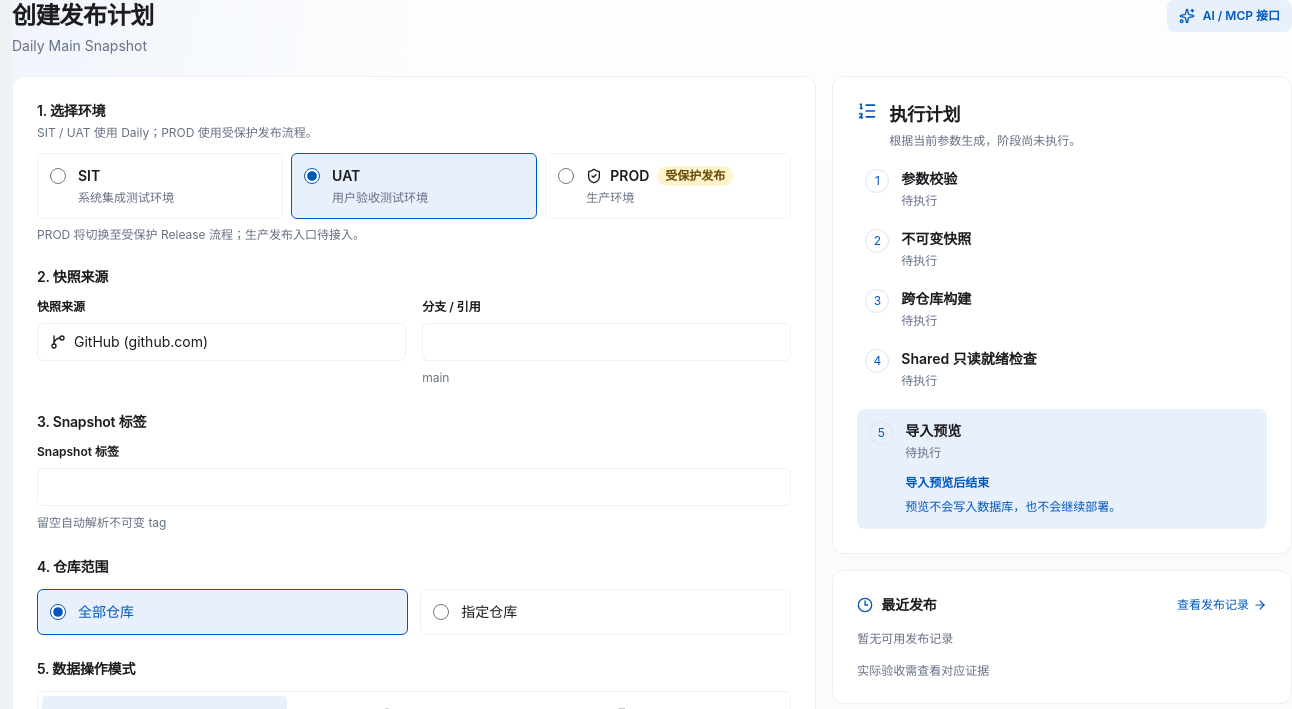
Test: SnapshotOperationsPage › disables PROD planning and restricts SIT to no data operation
Click the radio button labelled "PROD 受保护发布 生产环境" at x=566, y=176, box [558,168,574,184]
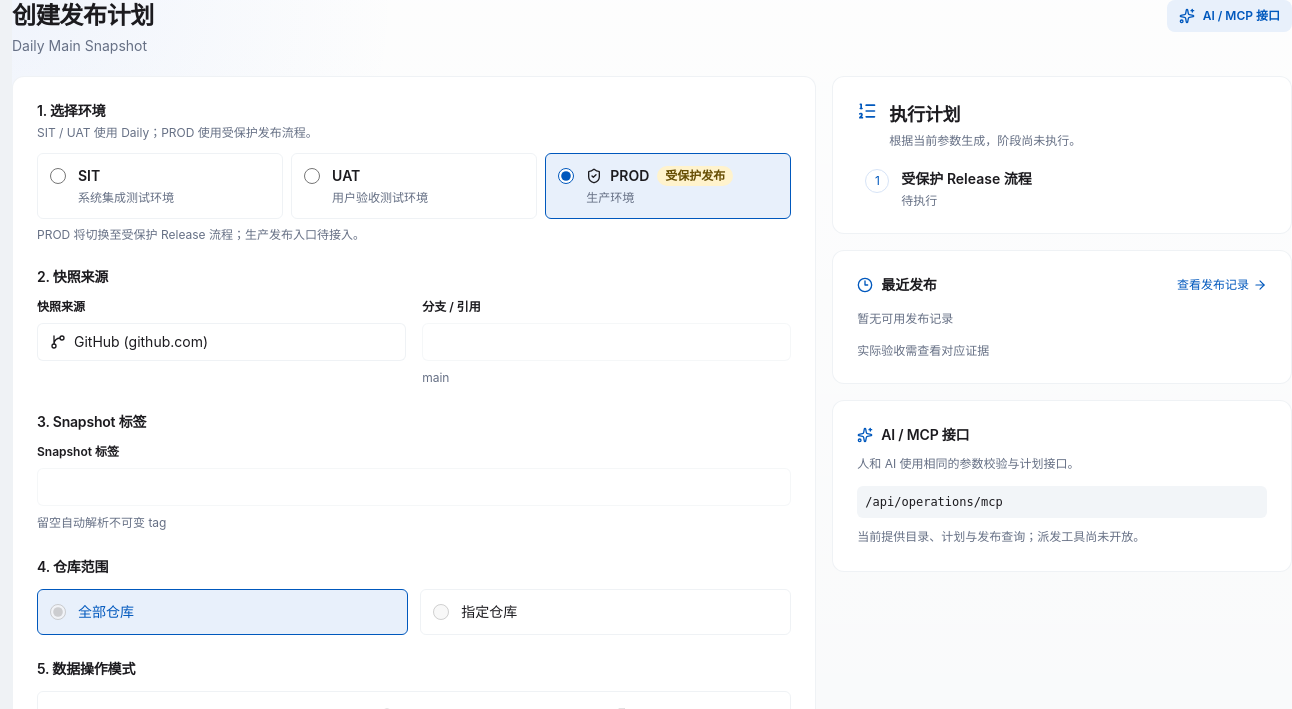
Click the radio button labelled "SIT 系统集成测试环境" at x=58, y=176, box [50,168,66,184]
(page scrolled)
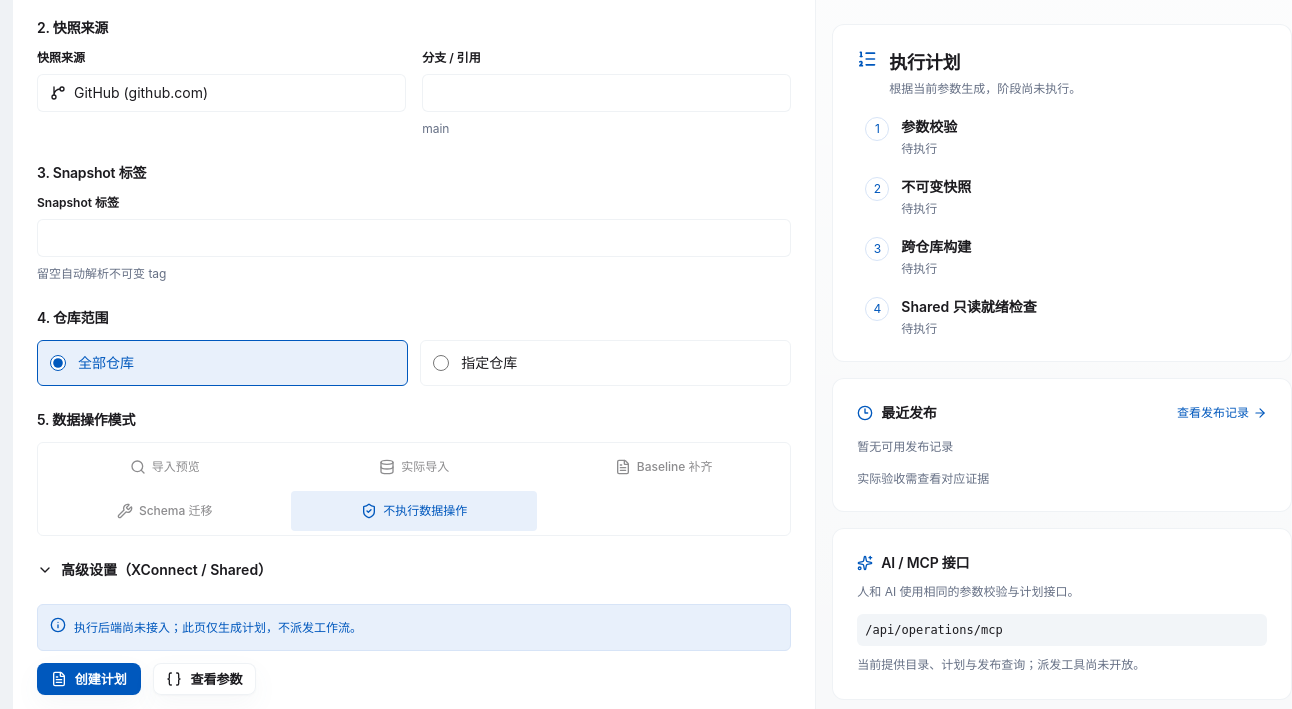
expect the radio button labelled "不执行数据操作" is checked: met, box [292,491,537,531]
expect the radio button labelled "实际导入" is disabled: met, box [379,459,449,475]
expect the button "创建计划" is enabled: met, box [37,663,141,695]
